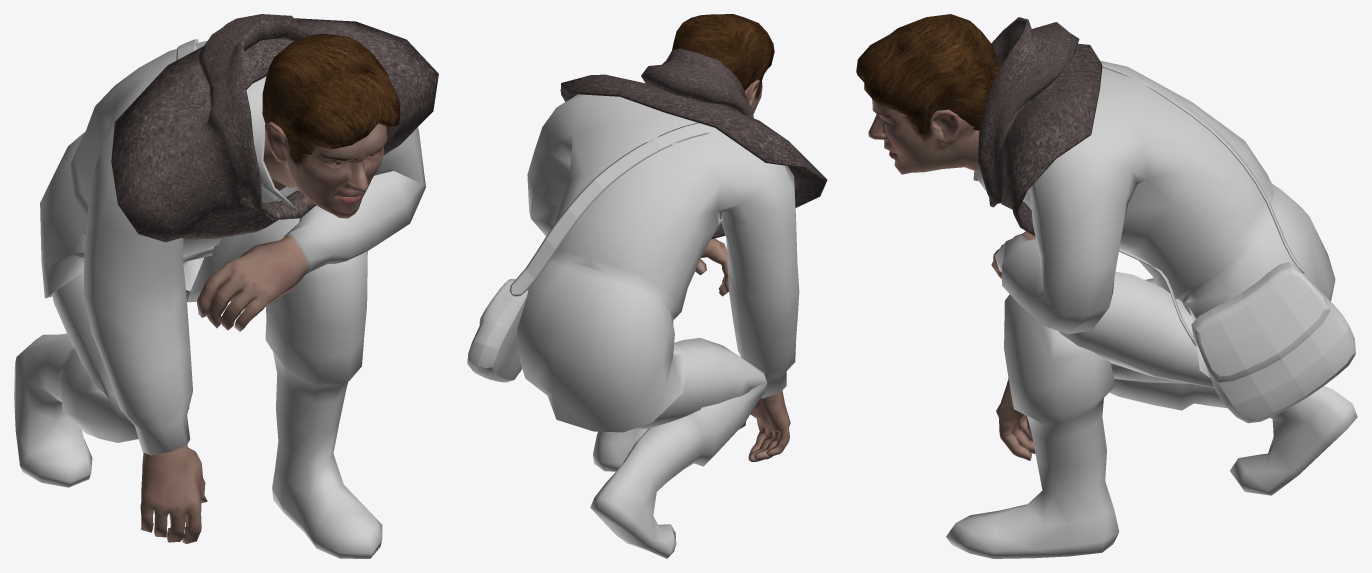
Rendered from Hero_Standing_Crouch.FBX.
3 renders of one model, left to right at view 1: azimuth 30°, elevation 25°; view 2: azimuth 150°, elevation 25°; view 3: azimuth 270°, elevation 25°, orthographic. The views are drawn at different scales.
Parts seen in each view (by area): view 1: Hero_Ref_Crouch, Hood_Ref_Crouch, Hair_Ref_Crouch; view 2: Hero_Ref_Crouch, Hood_Ref_Crouch, Bag_Ref_Crouch, Hair_Ref_Crouch; view 3: Hero_Ref_Crouch, Bag_Ref_Crouch, Hood_Ref_Crouch, Hair_Ref_Crouch.
Part boxes in pixels (x1,y1,x2,y2): Hero_Ref_Crouch: (14,40,425,558); Hood_Ref_Crouch: (111,14,438,242); Hair_Ref_Crouch: (262,33,400,159); Hero_Ref_Crouch: (517,79,799,558); Hood_Ref_Crouch: (560,48,827,239); Bag_Ref_Crouch: (467,122,712,382); Hair_Ref_Crouch: (672,14,774,94); Hero_Ref_Crouch: (868,60,1357,558); Bag_Ref_Crouch: (1101,62,1355,423); Hood_Ref_Crouch: (977,17,1102,236); Hair_Ref_Crouch: (856,14,1000,134).
Size of the model in its own units: 66.49 by 100 by 90.73.
